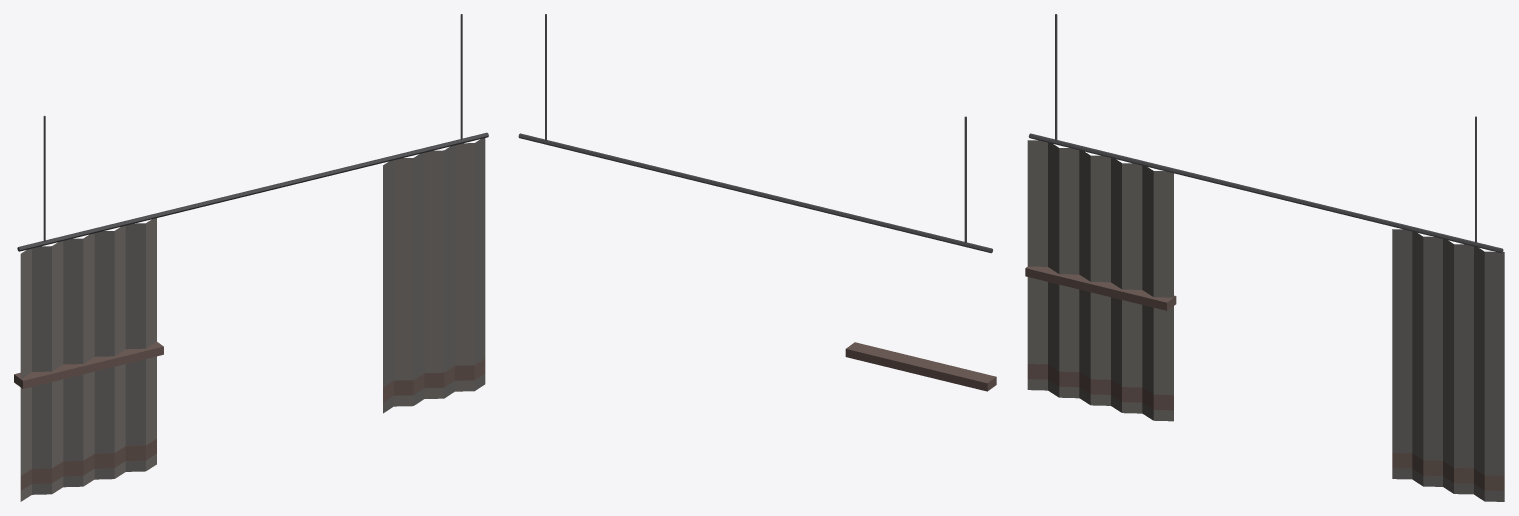
Rendered from blanket_curtain.glb.
The picture shows the model from 3 angles, left to right: view 1: azimuth 30°, elevation 25°; view 2: azimuth 150°, elevation 25°; view 3: azimuth 330°, elevation 25°; orthographic projection.
Visible parts, largest first — view 1: blanket_curtain; view 2: blanket_curtain; view 3: blanket_curtain.
Part boxes in pixels (<box>): blanket_curtain: <box>14,14,488,501</box>; blanket_curtain: <box>518,14,996,391</box>; blanket_curtain: <box>1025,14,1504,501</box>.
Bounding box in the file's own units: 3.6 × 2.77 × 0.12.
